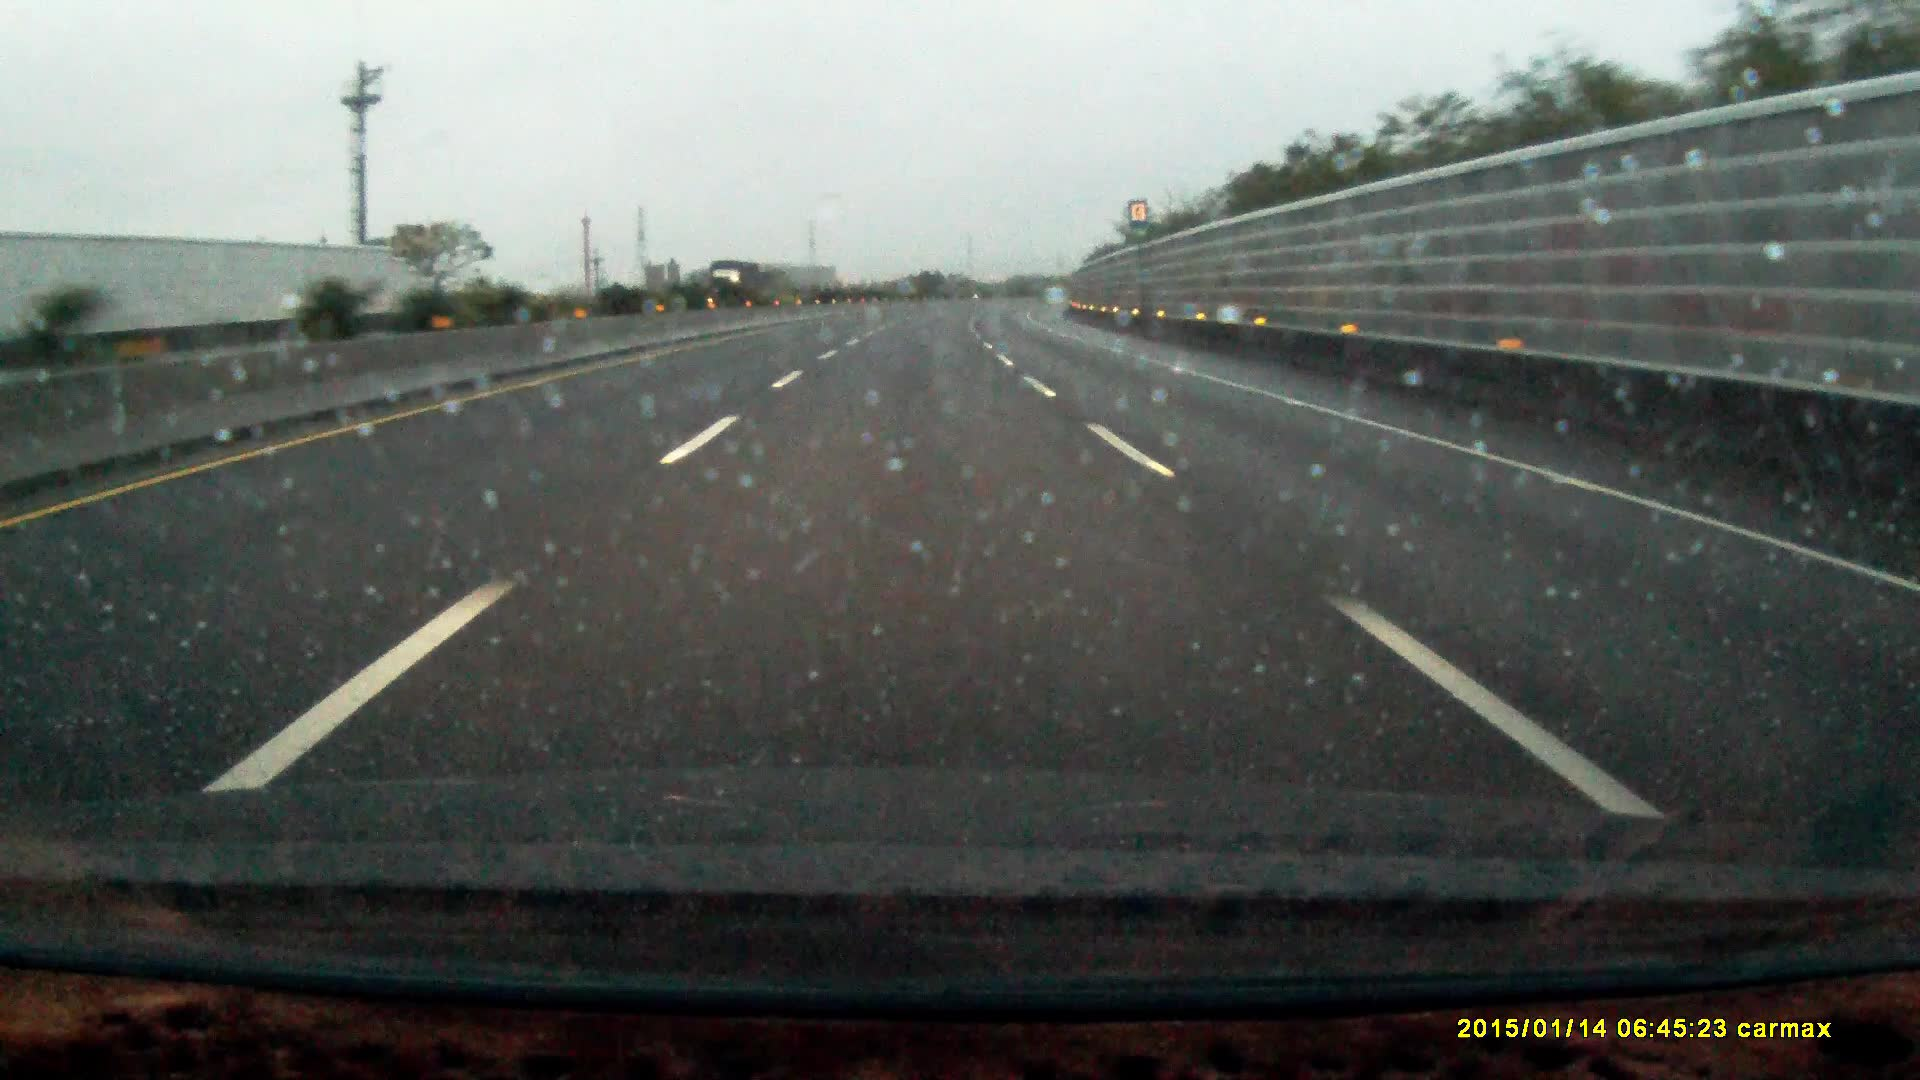vehicle: (709, 261, 760, 301)
